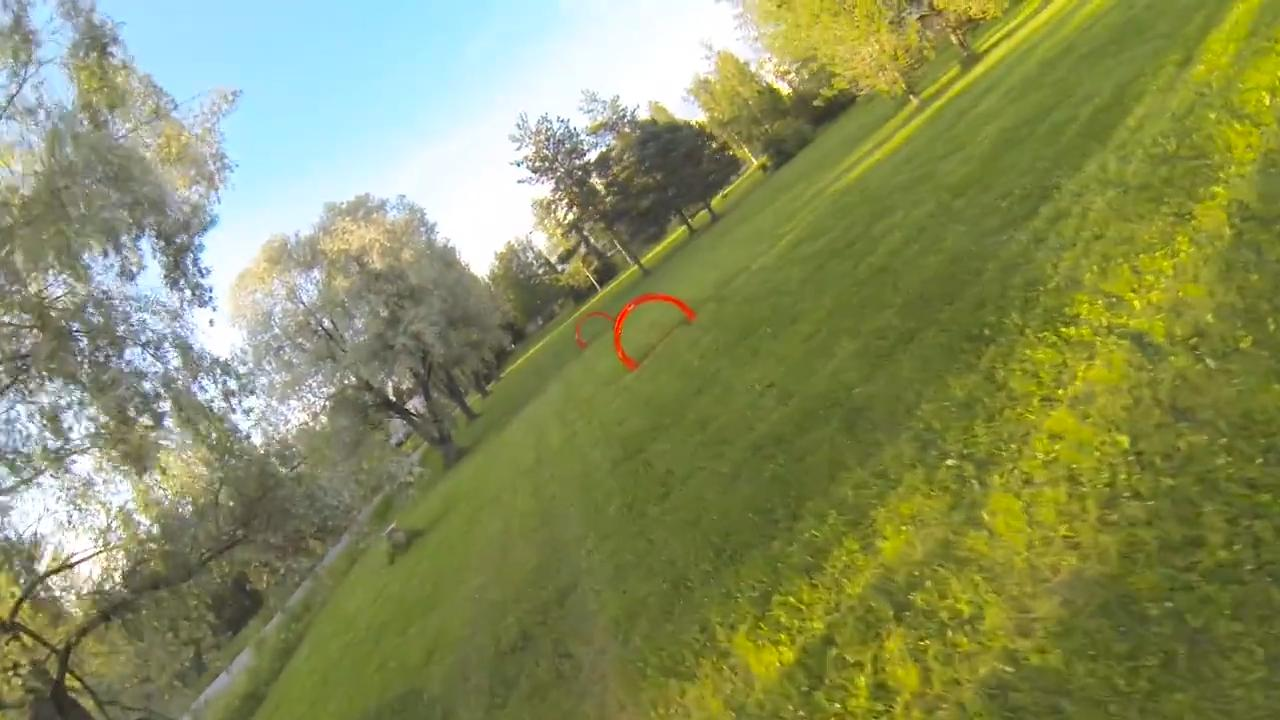gate: (610, 290, 696, 373)
